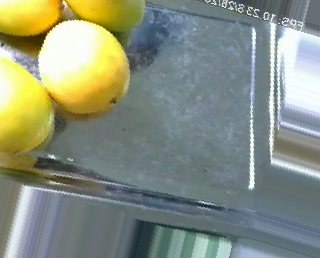Mango: (37, 19, 133, 114), (0, 46, 59, 155), (63, 0, 147, 33), (0, 1, 66, 36)
